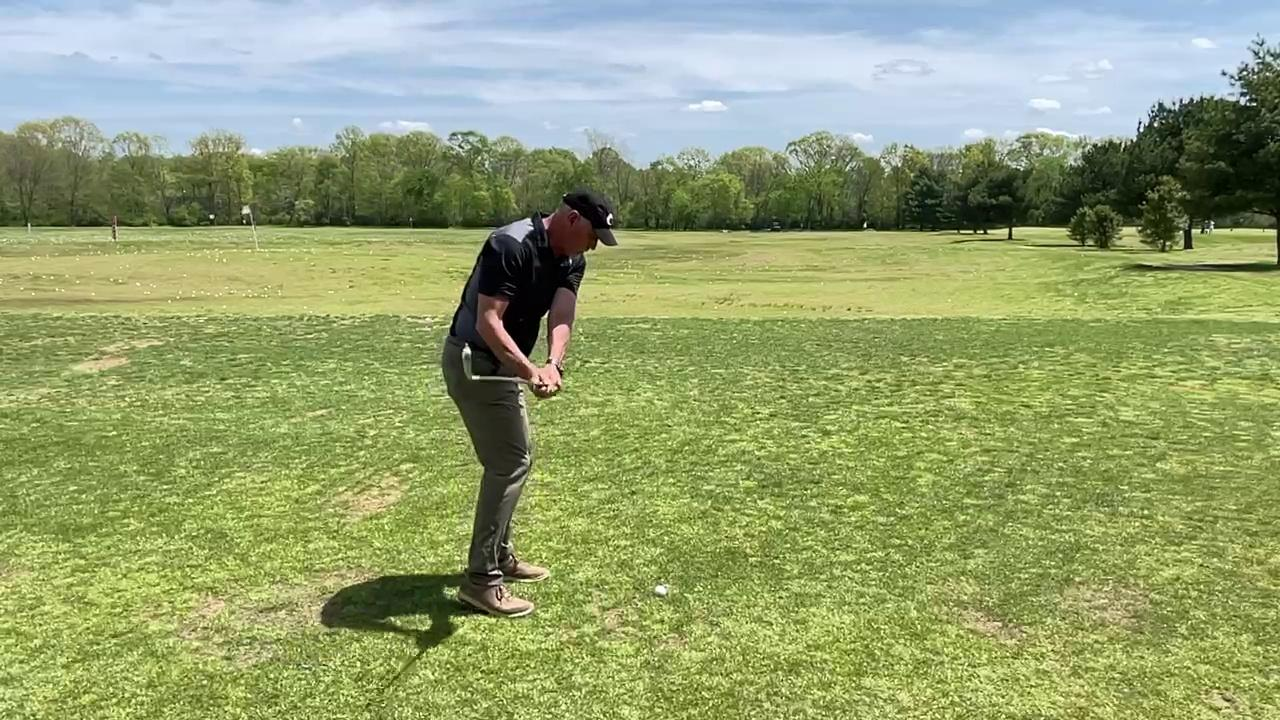ClubHead: (457, 341, 482, 384)
GolfBall: (652, 583, 669, 601)
